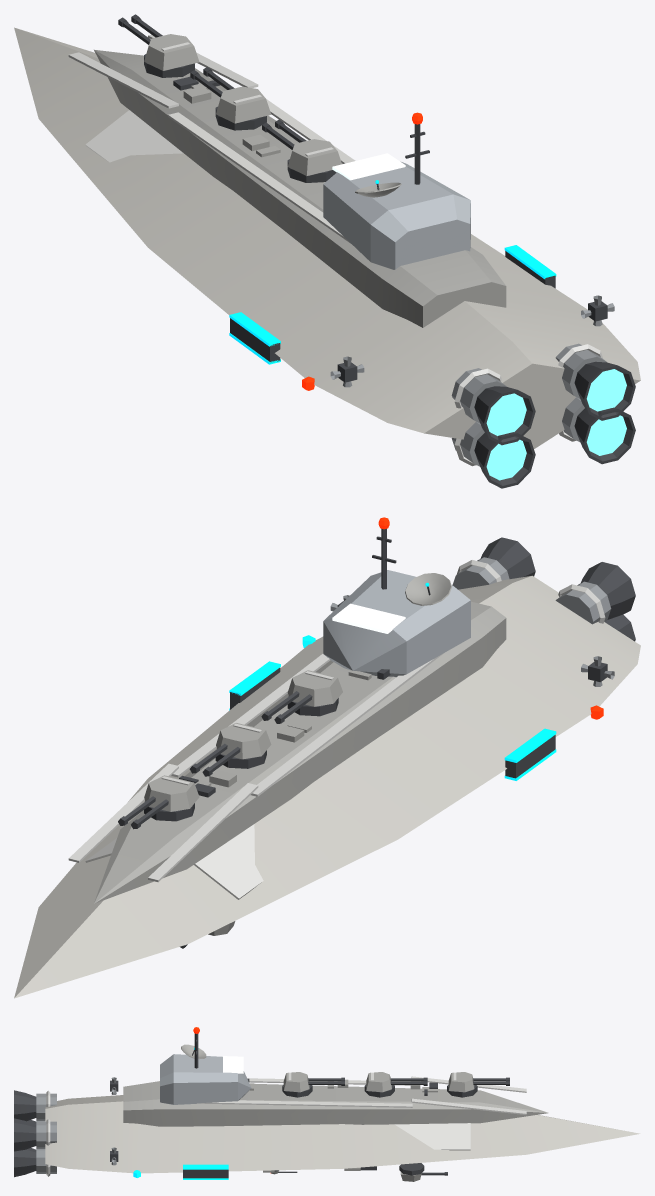
The model's file is destroyer.glb.
3 renders of one model, top to bottom at view 1: azimuth 30°, elevation 25°; view 2: azimuth 150°, elevation 25°; view 3: azimuth 270°, elevation 25°, orthographic. The views are drawn at different scales.
Visible parts, largest first — view 1: Hull, Turret_4, Turret_3, Turret_5; view 2: Hull, Turret_4, Turret_5, Turret_3; view 3: Hull, Turret_3, Turret_5, Turret_4, Turret_6.
Boxes of the visible parts, x1=… form: Hull: x1=14, y1=27, x2=640, y2=488; Turret_4: x1=190, y1=67, x2=271, y2=130; Turret_3: x1=118, y1=14, x2=199, y2=77; Turret_5: x1=262, y1=119, x2=341, y2=182; Hull: x1=14, y1=517, x2=640, y2=998; Turret_4: x1=189, y1=723, x2=271, y2=776; Turret_5: x1=261, y1=670, x2=342, y2=723; Turret_3: x1=118, y1=775, x2=199, y2=829; Hull: x1=14, y1=1027, x2=640, y2=1179; Turret_3: x1=447, y1=1072, x2=509, y2=1097; Turret_5: x1=282, y1=1072, x2=344, y2=1097; Turret_4: x1=364, y1=1072, x2=427, y2=1097; Turret_6: x1=399, y1=1163, x2=447, y2=1181.
Size of the model in its own units: 0.6319 by 0.5475 by 2.
